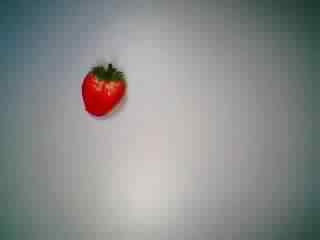strawberry: (64, 58, 138, 122)
